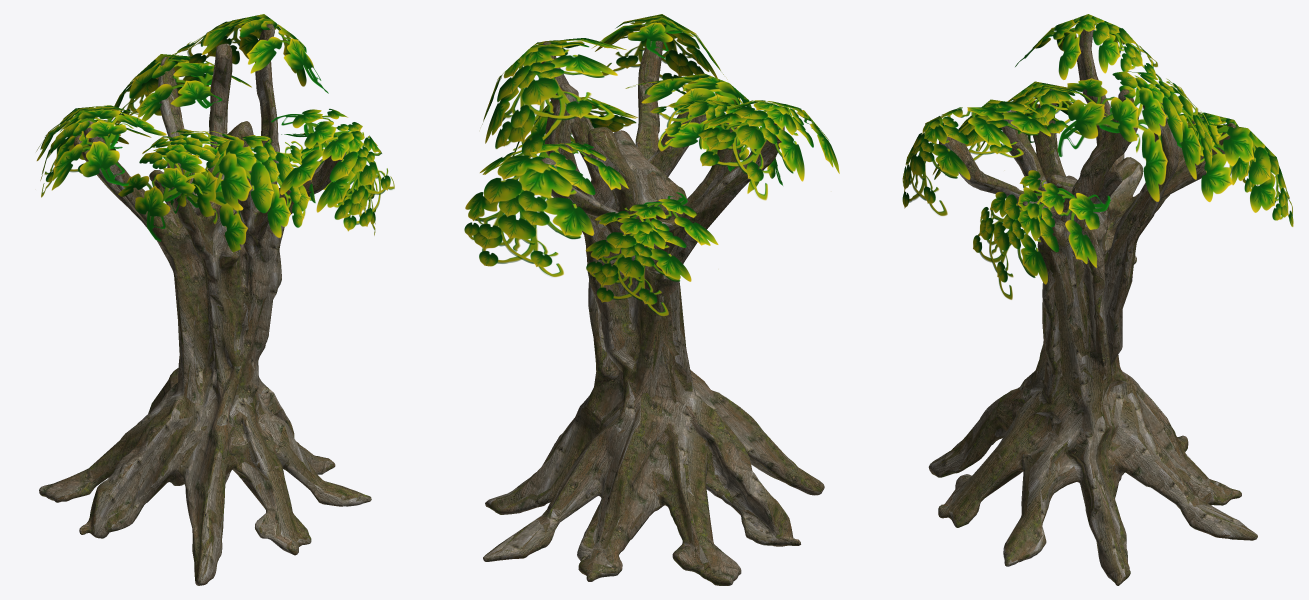
Rendered from lowpoly-worldtree.glb.
3 views of the same model, side by side, from view 1: azimuth 30°, elevation 25°; view 2: azimuth 150°, elevation 25°; view 3: azimuth 270°, elevation 25° (orthographic). The views are drawn at different scales.
Visible parts, largest first — view 1: BézierCurve.001, leaves.016, leaves.014, leaves.015, leaves.011, leaves.012, leaves.009, leaves.013, leaves.010; view 2: BézierCurve.001, leaves.009, leaves.012, leaves.013, leaves.011, leaves.014, leaves.016, leaves.015, leaves.010; view 3: BézierCurve.001, leaves.012, leaves.010, leaves.009, leaves.014, leaves.011, leaves.016, leaves.015, leaves.013.
Part boxes in pixels (left/top/right/bottom): BézierCurve.001: left=39, top=23, right=371, bottom=585; leaves.016: left=170, top=135, right=315, bottom=252; leaves.014: left=271, top=108, right=394, bottom=226; leaves.015: left=118, top=129, right=249, bottom=241; leaves.011: left=36, top=105, right=166, bottom=190; leaves.012: left=164, top=14, right=328, bottom=93; leaves.009: left=111, top=54, right=251, bottom=135; leaves.013: left=40, top=119, right=151, bottom=197; leaves.010: left=281, top=133, right=375, bottom=235; BézierCurve.001: left=483, top=40, right=824, bottom=585; leaves.009: left=464, top=141, right=629, bottom=276; leaves.012: left=482, top=38, right=626, bottom=156; leaves.013: left=585, top=192, right=718, bottom=315; leaves.011: left=698, top=100, right=839, bottom=200; leaves.014: left=591, top=14, right=727, bottom=80; leaves.016: left=625, top=73, right=759, bottom=171; leaves.015: left=649, top=99, right=782, bottom=193; leaves.010: left=513, top=97, right=637, bottom=158; BézierCurve.001: left=928, top=24, right=1257, bottom=585; leaves.012: left=1057, top=71, right=1219, bottom=201; leaves.010: left=973, top=170, right=1110, bottom=299; leaves.009: left=1177, top=123, right=1293, bottom=226; leaves.014: left=902, top=106, right=1011, bottom=215; leaves.011: left=1015, top=14, right=1157, bottom=79; leaves.016: left=932, top=99, right=1080, bottom=179; leaves.015: left=978, top=81, right=1111, bottom=151; leaves.013: left=1179, top=112, right=1258, bottom=192.
Bounding box in the file's own units: 9.61 × 13.04 × 10.02.
2 materials, 2 textured.
